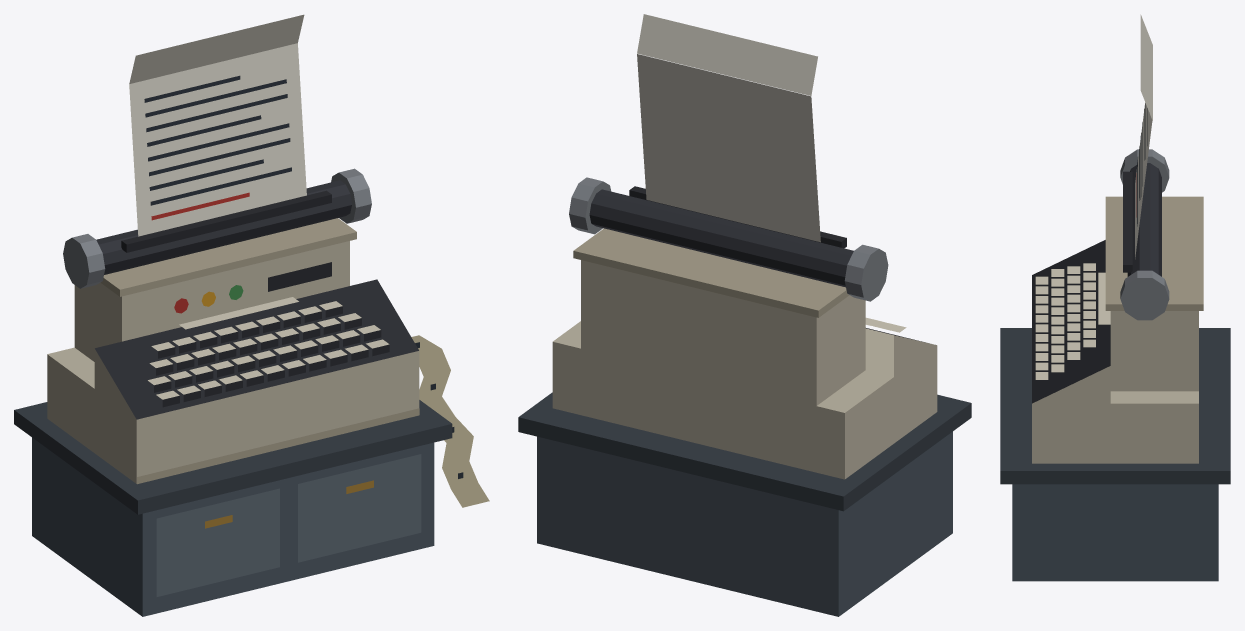
Rendered from special-telex.glb.
3 views of the same model, side by side, from view 1: azimuth 30°, elevation 25°; view 2: azimuth 150°, elevation 25°; view 3: azimuth 270°, elevation 25° (orthographic). The views are drawn at different scales.
Parts seen in each view (by area): view 1: special-telex; view 2: special-telex; view 3: special-telex.
Part boxes in pixels (box(x1,y1,x2,y2)): special-telex: box(14, 14, 489, 616); special-telex: box(518, 14, 971, 616); special-telex: box(1000, 14, 1230, 581).
Size of the model in its own units: 1.7 by 2.08 by 0.94.
